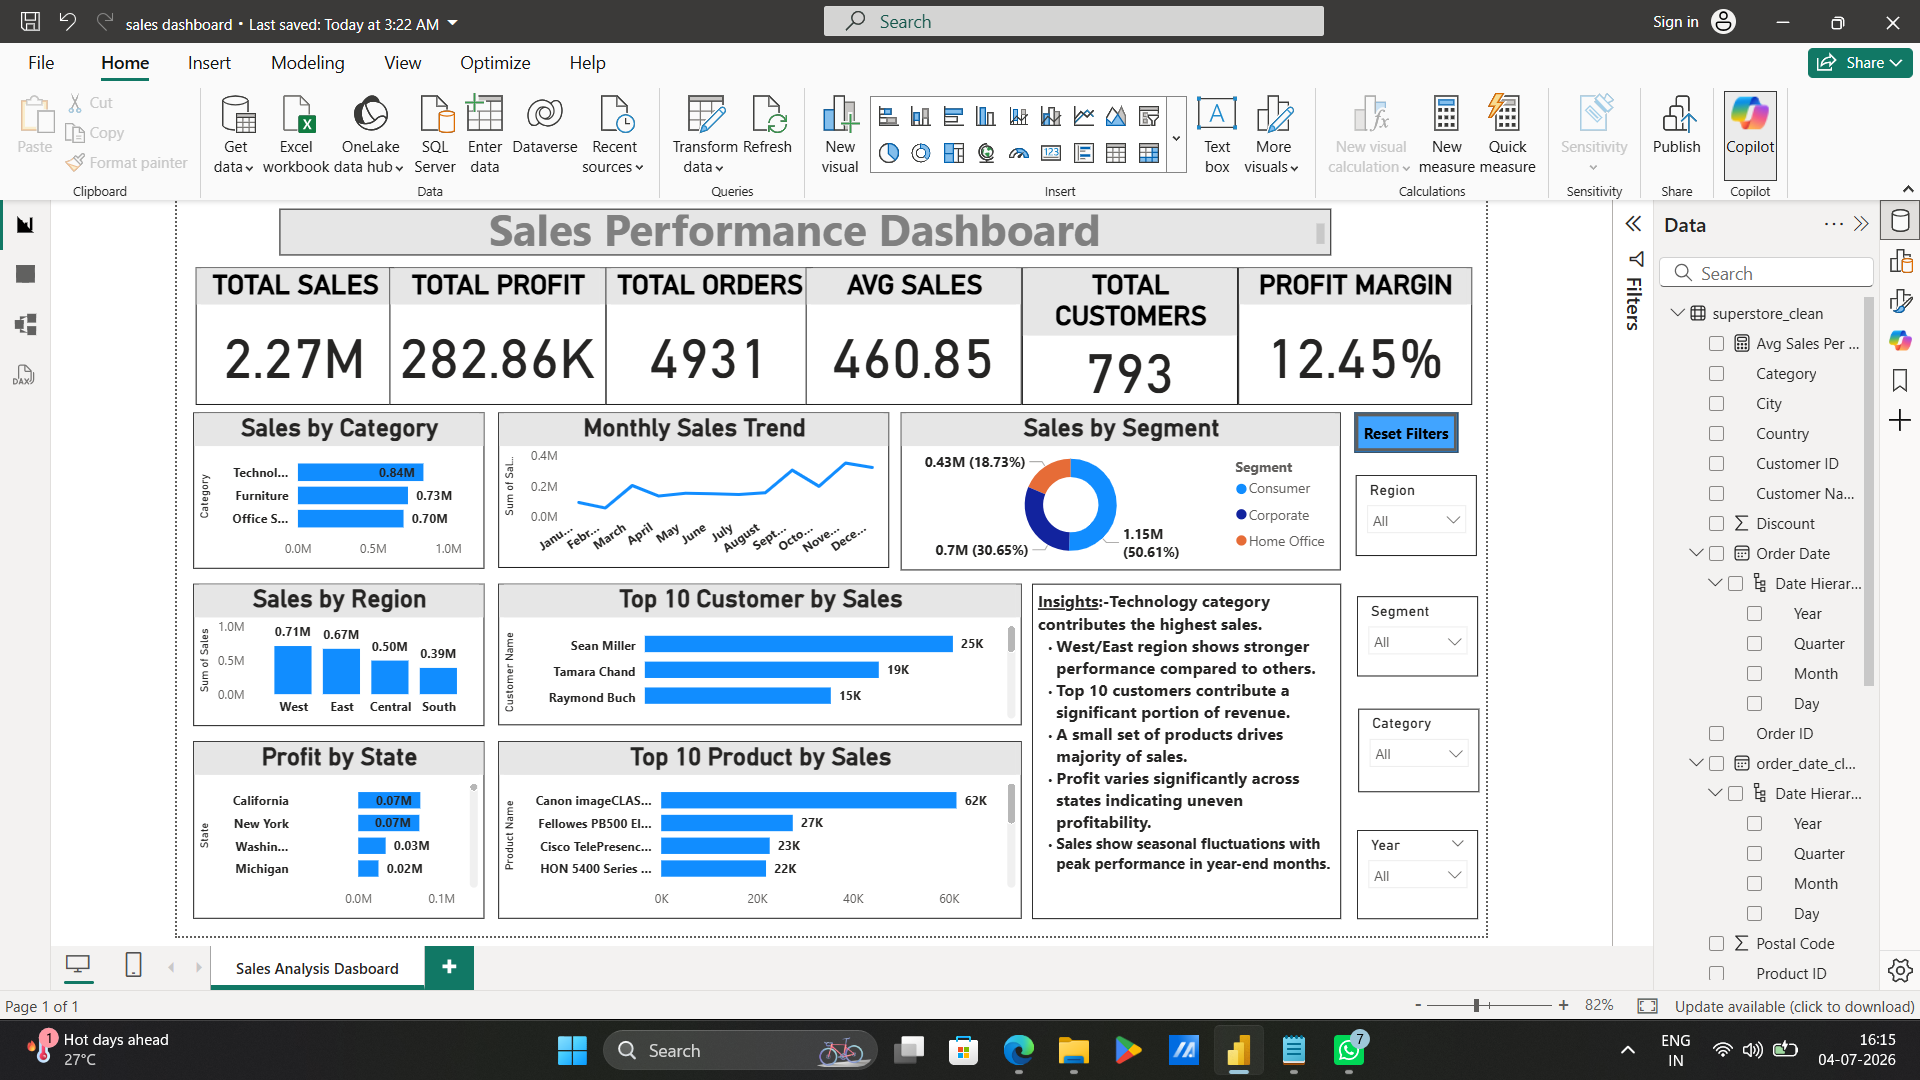

Layout of this report page (visuals, bound fields, positions):
{"tool":"powerbi","page":{"name":"Sales Analysis Dasboard","canvas":[1280,720],"ordinal":0},"visuals":[{"type":"card","title":"TOTAL SALES","fields":{"Values":["superstore_clean.Total Sales"]},"box":[17.9,66.4,193.7,134.5],"z":0},{"type":"card","title":"TOTAL PROFIT","fields":{"Values":["superstore_clean.Total Profit"]},"box":[208.1,66.4,211.7,134.5],"z":1000},{"type":"card","title":"TOTAL ORDERS","fields":{"Values":["superstore_clean.Total Orders"]},"box":[419.7,66.4,202.7,134.5],"z":2000},{"type":"card","title":"TOTAL CUSTOMERS","fields":{"Values":["superstore_clean.Total Customers"]},"box":[826.6,66,211.6,134.5],"z":3000},{"type":"lineChart","title":"Monthly Sales Trend","fields":{"Category":["superstore_clean.Order Date.Variation.Date Hierarchy.Month"],"Y":["Sum(superstore_clean.Sales)"]},"box":[314.3,207.9,382.7,151.6],"z":4000},{"type":"card","title":"AVG SALES ","fields":{"Values":["superstore_clean.Avg Sales Per Order"]},"box":[615.1,66,211.6,134.5],"z":5000},{"type":"card","title":"PROFIT MARGIN ","fields":{"Values":["superstore_clean.Profit Margin %"]},"box":[1038.2,66,228.7,134.5],"z":6000},{"type":"clusteredBarChart","title":" Sales by Category","fields":{"Category":["superstore_clean.Category"],"Y":["Sum(superstore_clean.Sales)"]},"box":[15.9,207.9,284.9,152.9],"z":7000},{"type":"clusteredColumnChart","title":"Sales by Region","fields":{"Category":["superstore_clean.Region"],"Y":["Sum(superstore_clean.Sales)"]},"box":[15.9,375.4,284.9,139.4],"z":8000},{"type":"clusteredBarChart","title":"Top 10 Customer by Sales","fields":{"Category":["superstore_clean.Customer Name"],"Y":["Sum(superstore_clean.Sales)"]},"box":[314.3,375.4,512.4,138.2],"z":9000},{"type":"clusteredBarChart","title":"Top 10 Product by Sales","fields":{"Category":["superstore_clean.Product Name"],"Y":["Sum(superstore_clean.Sales)"]},"box":[314.3,529.5,512.4,173.6],"z":10000},{"type":"donutChart","title":"Sales by Segment","fields":{"Category":["superstore_clean.Segment"],"Y":["Sum(superstore_clean.Sales)"]},"box":[708,207.9,430.4,154.1],"z":11000},{"type":"clusteredBarChart","title":"Profit by State","fields":{"Category":["superstore_clean.State"],"Y":["Sum(superstore_clean.Profit)"]},"box":[15.9,529.5,284.9,173.6],"z":12000},{"type":"textbox","box":[100.3,8.6,1028.4,45.2],"z":13000},{"type":"textbox","box":[836.4,375.4,302,327.7],"z":14000},{"type":"slicer","fields":{"Values":["superstore_clean.Region"]},"box":[1153.1,269,118.6,79.5],"z":15000},{"type":"slicer","fields":{"Values":["superstore_clean.Category"]},"box":[1155.6,497.7,118.6,81.9],"z":16000},{"type":"slicer","fields":{"Values":["superstore_clean.Segment"]},"box":[1154.4,387.6,118.6,78.3],"z":17000},{"type":"slicer","fields":{"Values":["superstore_clean.order_date_clean.Variation.Date Hierarchy.Year"]},"box":[1154.4,616.3,118.6,86.8],"z":18000},{"type":"actionButton","box":[1151.9,207.9,101.5,39.1],"z":18001}]}

Visuals, with their boxes on the page's 1280x720 design canvas (x1, y1, x2, y2). These are canvas units, not pixel positions in the 1920x1080 screenshot, which may show the page scaled, cropped or inside an application window:
"TOTAL SALES" card: <bbox>18, 66, 212, 201</bbox>
"TOTAL PROFIT" card: <bbox>208, 66, 420, 201</bbox>
"TOTAL ORDERS" card: <bbox>420, 66, 622, 201</bbox>
"TOTAL CUSTOMERS" card: <bbox>827, 66, 1038, 200</bbox>
"Monthly Sales Trend" lineChart: <bbox>314, 208, 697, 360</bbox>
"AVG SALES " card: <bbox>615, 66, 827, 200</bbox>
"PROFIT MARGIN " card: <bbox>1038, 66, 1267, 200</bbox>
" Sales by Category" clusteredBarChart: <bbox>16, 208, 301, 361</bbox>
"Sales by Region" clusteredColumnChart: <bbox>16, 375, 301, 515</bbox>
"Top 10 Customer by Sales" clusteredBarChart: <bbox>314, 375, 827, 514</bbox>
"Top 10 Product by Sales" clusteredBarChart: <bbox>314, 530, 827, 703</bbox>
"Sales by Segment" donutChart: <bbox>708, 208, 1138, 362</bbox>
"Profit by State" clusteredBarChart: <bbox>16, 530, 301, 703</bbox>
textbox: <bbox>100, 9, 1129, 54</bbox>
textbox: <bbox>836, 375, 1138, 703</bbox>
slicer - superstore_clean.Region: <bbox>1153, 269, 1272, 348</bbox>
slicer - superstore_clean.Category: <bbox>1156, 498, 1274, 580</bbox>
slicer - superstore_clean.Segment: <bbox>1154, 388, 1273, 466</bbox>
slicer - superstore_clean.order_date_clean.Variation.Date Hierarchy.Year: <bbox>1154, 616, 1273, 703</bbox>
actionButton: <bbox>1152, 208, 1253, 247</bbox>
